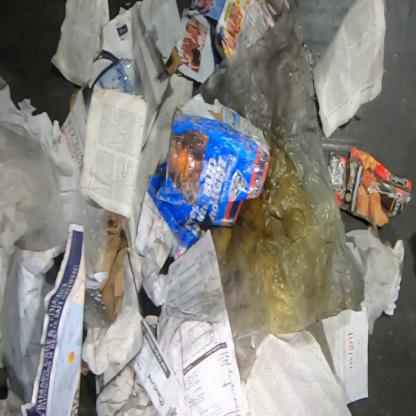cardboard: (134, 93, 270, 261), (60, 0, 184, 175), (328, 146, 414, 228)
soft_plastic: (193, 0, 366, 388), (0, 122, 108, 315), (83, 288, 109, 330)
